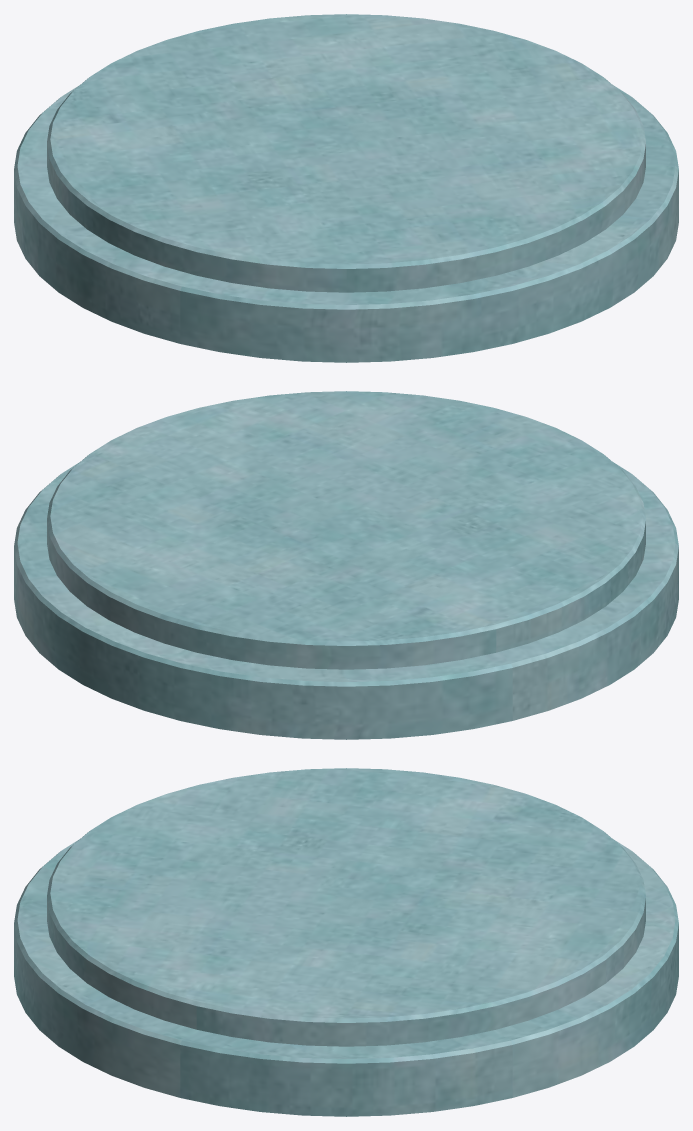
The model's file is podium.gltf.
3 renders of one model, top to bottom at view 1: azimuth 30°, elevation 25°; view 2: azimuth 150°, elevation 25°; view 3: azimuth 270°, elevation 25°, orthographic.
Visible parts, largest first — view 1: Circle; view 2: Circle; view 3: Circle.
Boxes of the visible parts, <box> form: Circle: <box>14,14,678,362</box>; Circle: <box>14,391,678,739</box>; Circle: <box>14,768,678,1116</box>.
Size of the model in its own units: 10.06 by 1.39 by 10.06.
1 material, 1 textured.
